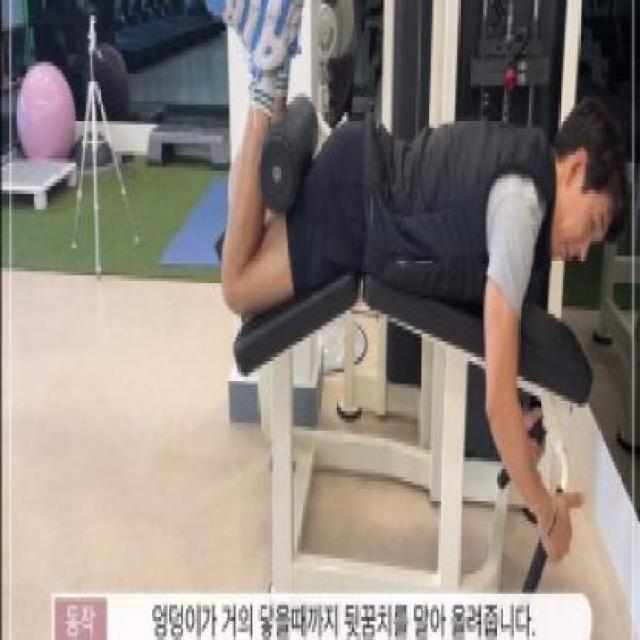reg curl machine: (198, 0, 632, 603)
